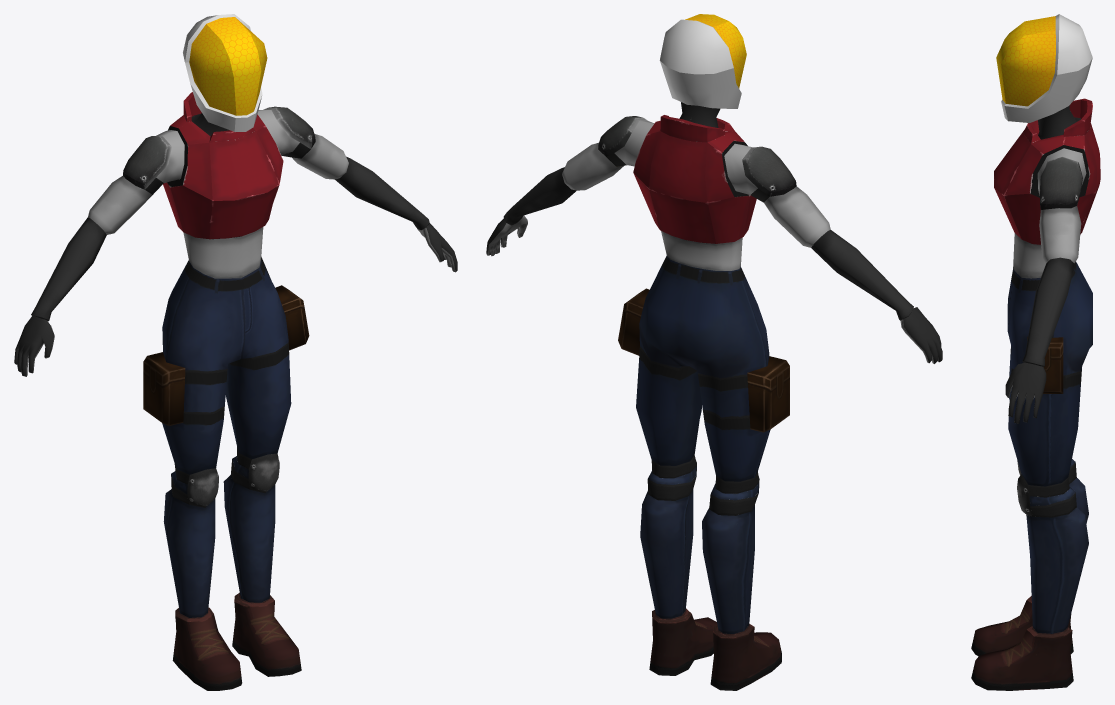
The model's file is soldierfemale.fbx.
The picture shows the model from 3 angles, left to right: view 1: azimuth 30°, elevation 25°; view 2: azimuth 150°, elevation 25°; view 3: azimuth 270°, elevation 25°; orthographic projection. The views are drawn at different scales.
Parts seen in each view (by area): view 1: Female_Soldier; view 2: Female_Soldier; view 3: Female_Soldier.
Boxes of the visible parts, left/top/right/bottom form: Female_Soldier: left=14, top=14, right=457, bottom=690; Female_Soldier: left=486, top=14, right=942, bottom=690; Female_Soldier: left=971, top=14, right=1100, bottom=690.
Bounding box in the file's own units: 387 × 542 × 98.24.
Materials: 1 (1 with a texture image).
